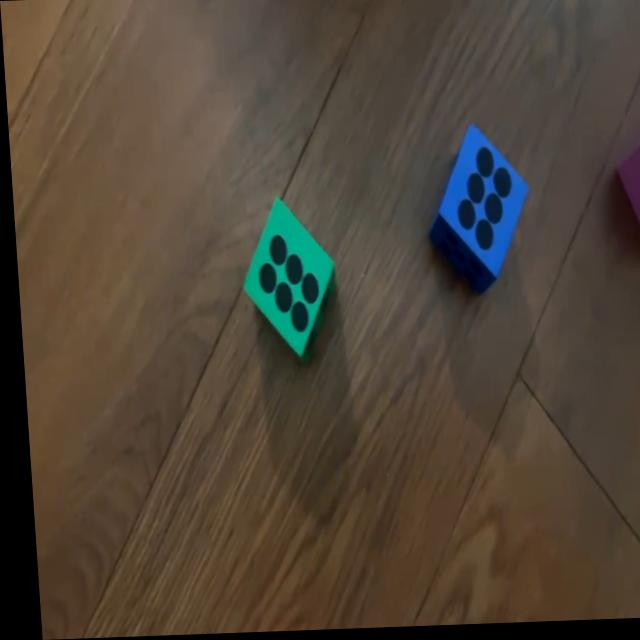cube: (418, 124, 531, 297), (235, 193, 334, 360)
